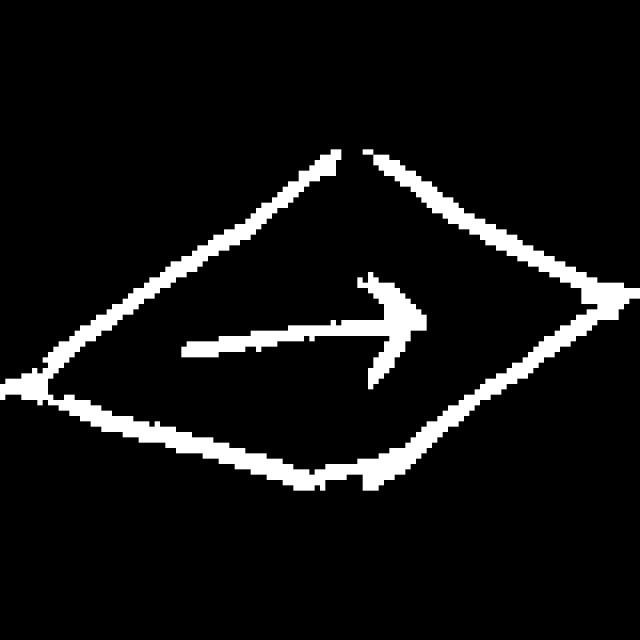dependant_current: (31, 125, 622, 508)
